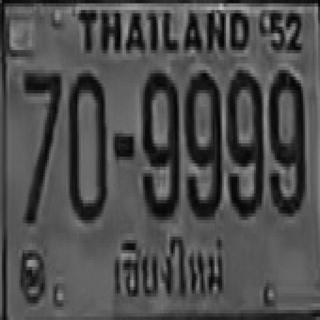N00: (68, 70, 105, 220)
N07: (23, 70, 60, 220)
N09: (141, 68, 179, 215), (184, 70, 220, 217), (267, 67, 303, 213), (226, 67, 262, 213)
P11: (105, 228, 229, 303)
